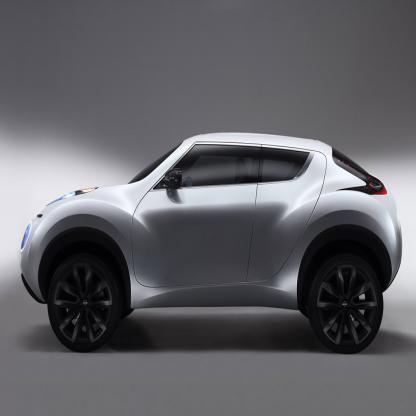car: (17, 128, 406, 358)
